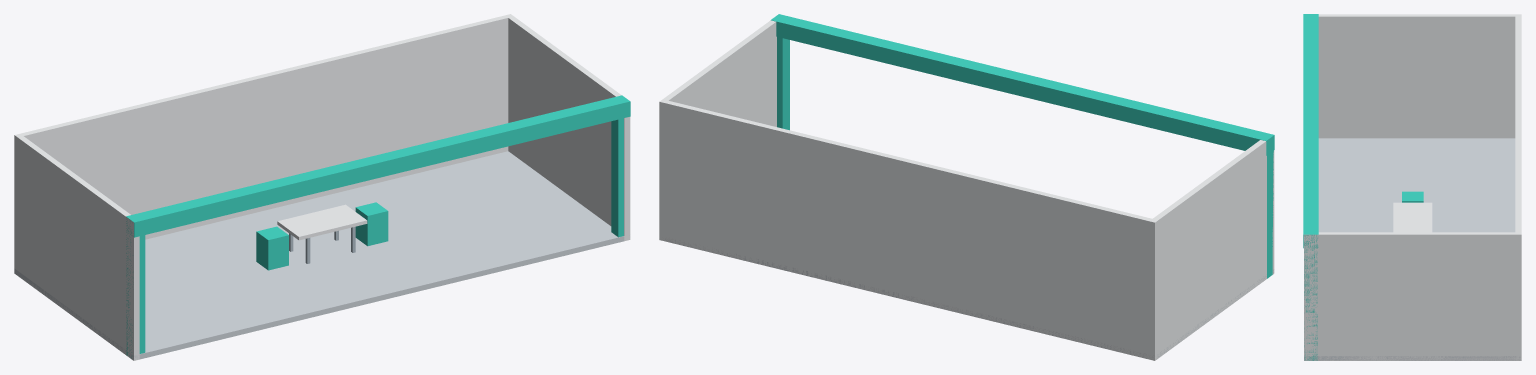
The picture shows the model from 3 angles, left to right: view 1: azimuth 30°, elevation 25°; view 2: azimuth 150°, elevation 25°; view 3: azimuth 270°, elevation 25°; orthographic projection. The views are drawn at different scales.
Visible parts, largest first — view 1: Exhibition Booth Concept; view 2: Exhibition Booth Concept; view 3: Exhibition Booth Concept.
Boxes of the visible parts, box(x1,y1,x2,y2) form: Exhibition Booth Concept: box(14, 14, 630, 360); Exhibition Booth Concept: box(659, 14, 1274, 360); Exhibition Booth Concept: box(1303, 14, 1521, 360).
Bounding box in the file's own units: 12 × 3.2 × 5.02.
